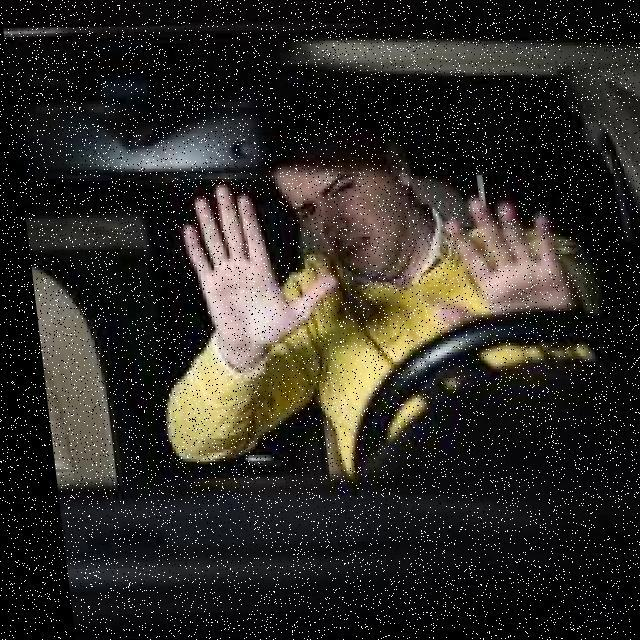noSeatbelt: (262, 238, 519, 429)
